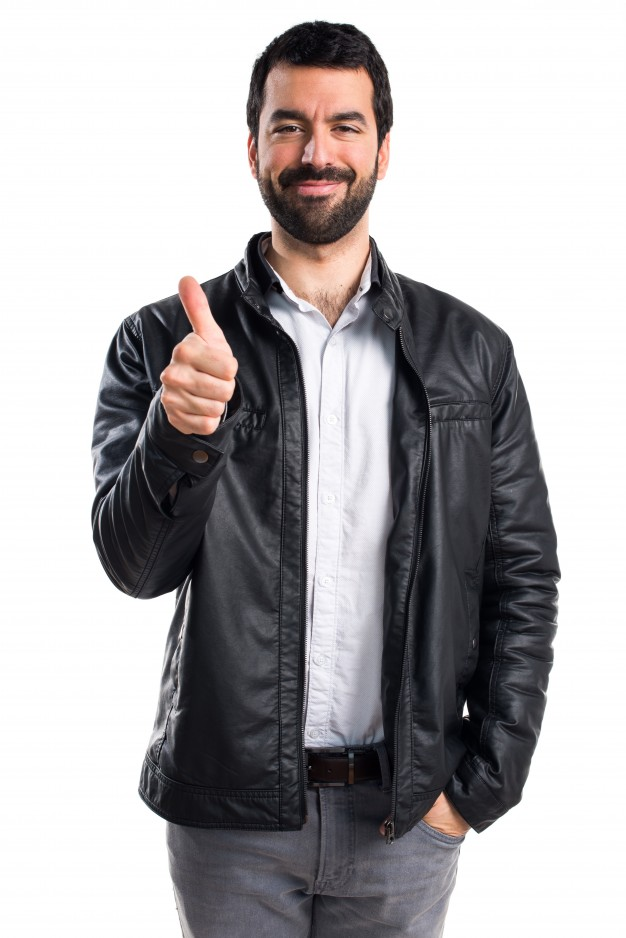thumbsup: (159, 275, 238, 434)
